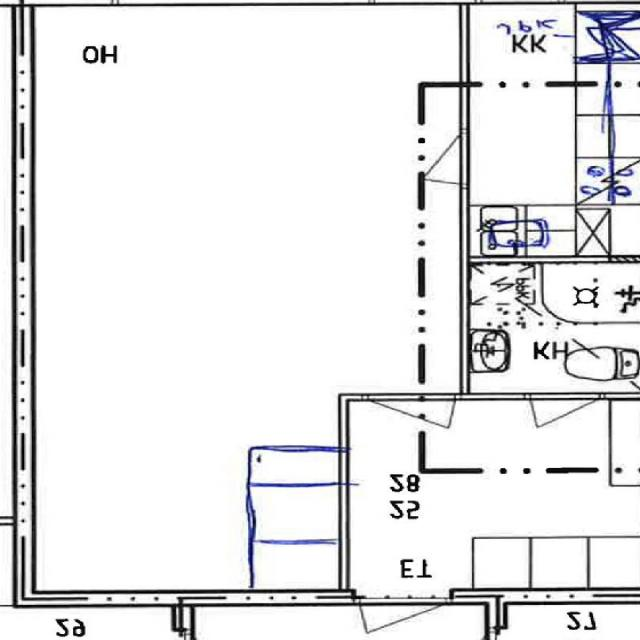door: (369, 392, 455, 464), (530, 392, 600, 451), (395, 135, 470, 184), (360, 598, 447, 640)
